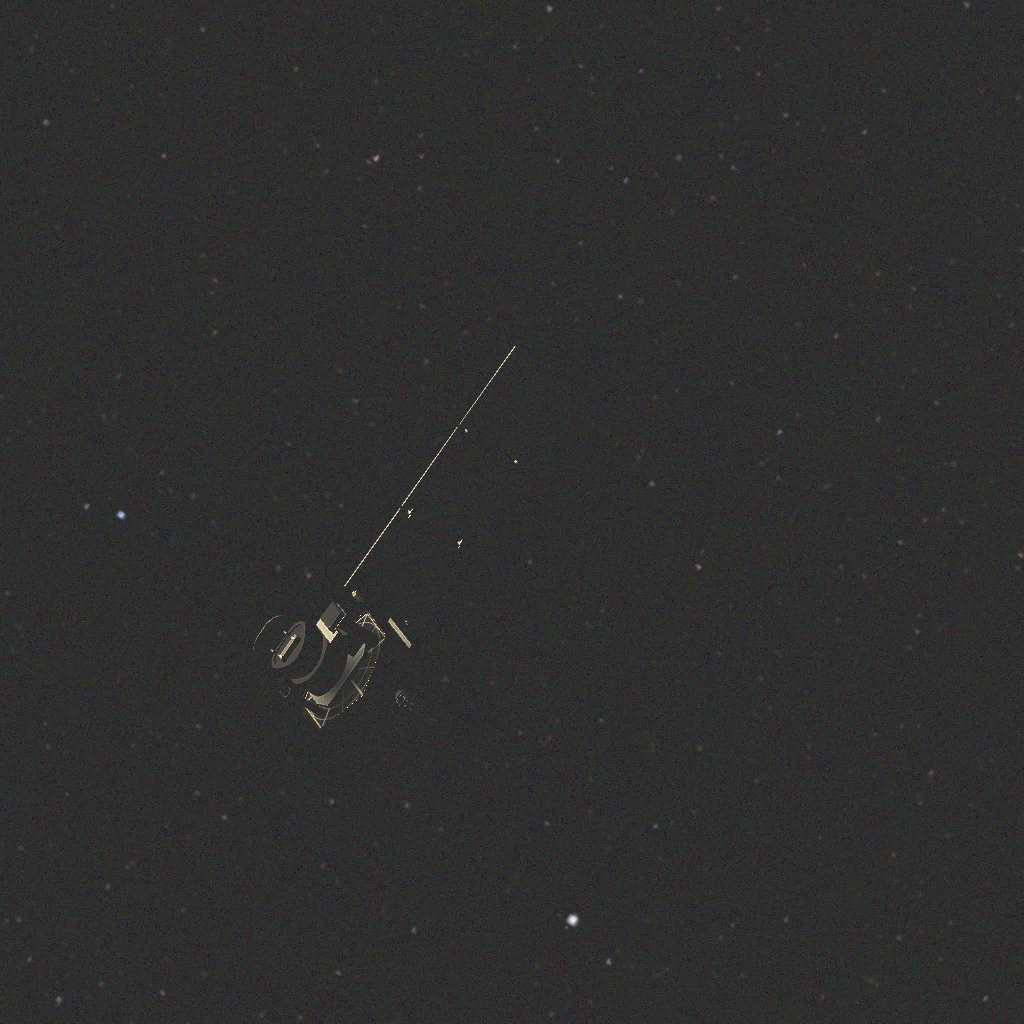earth_observation_sat_1: (257, 349, 555, 752)
